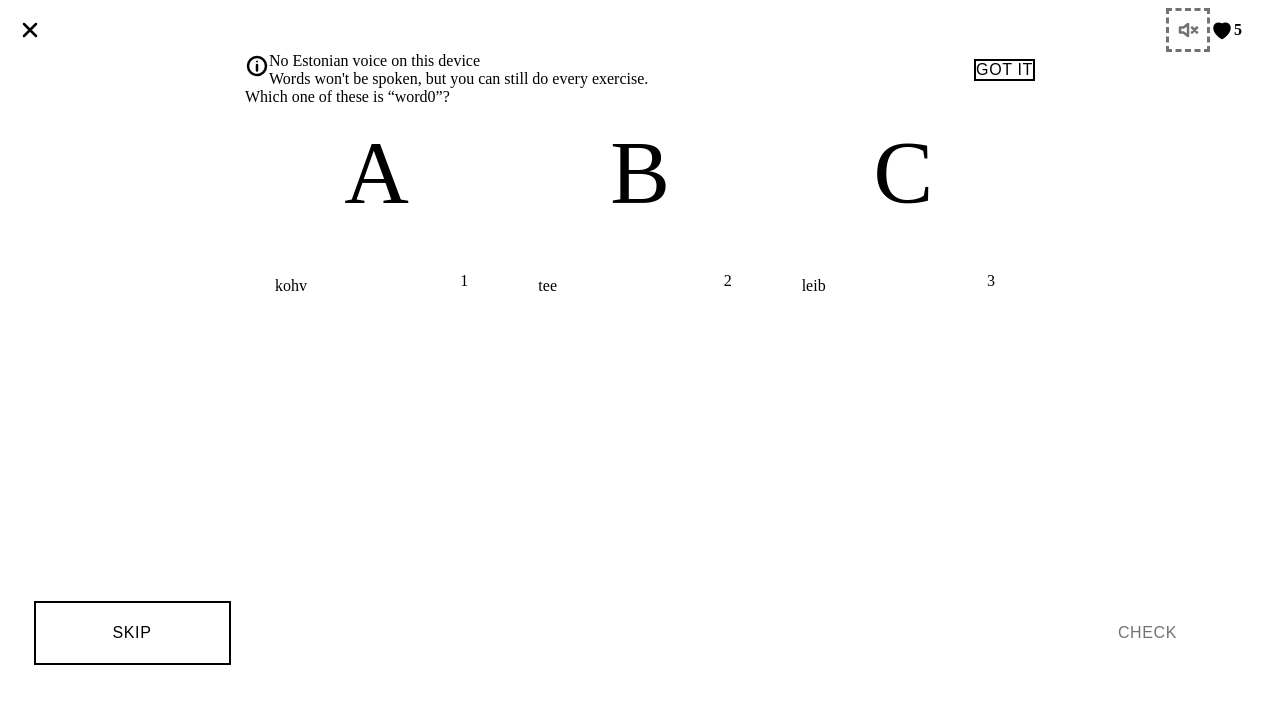
Test: ExerciseSession speech and sound notices › with no Estonian voice › speaks nothing, shows the icon and the notice, and cards still work
The width and height of the screenshot is (1280, 720).
Check: the text "No Estonian voice on this device" is shown, box [269,52,480,69]
Check: the text "Words won't be spoken, but you can still do every exercise." is shown, box [269,70,648,87]
Click the radio button labelled "A kohv 1" at (372, 208), box [275,122,468,294]
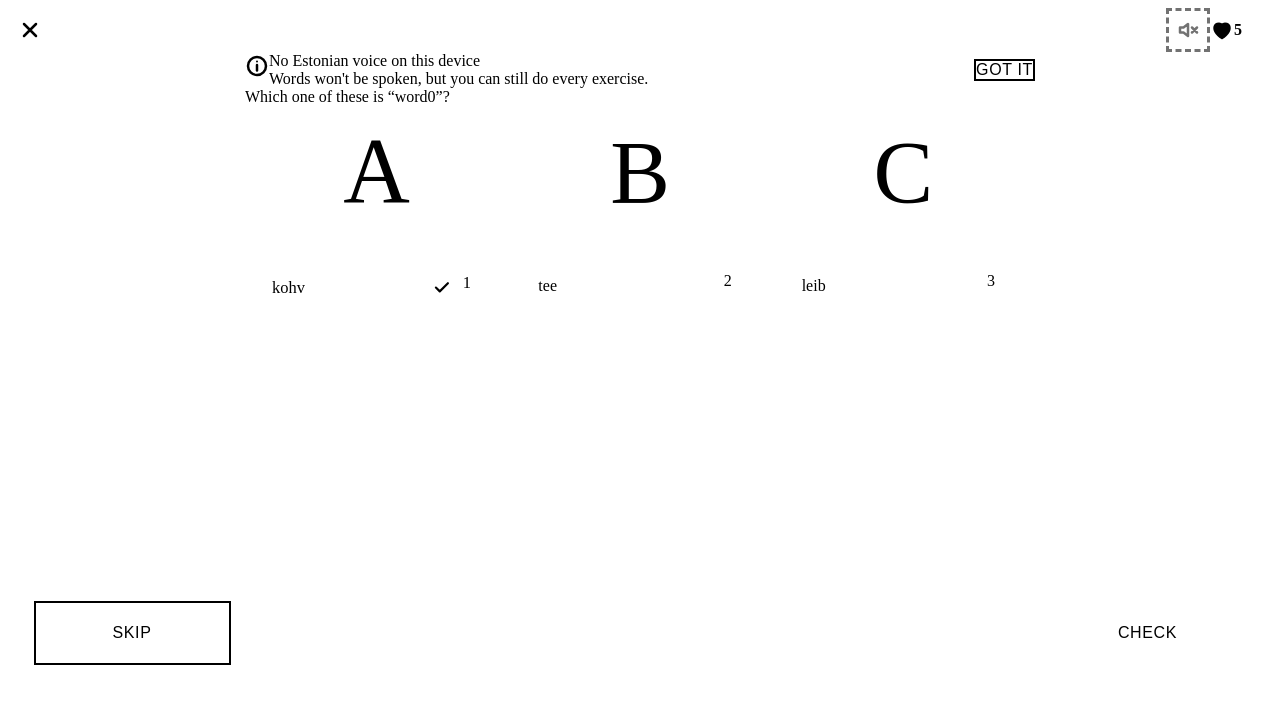
Check: the button "Check" is enabled, box [1048,601,1246,665]
